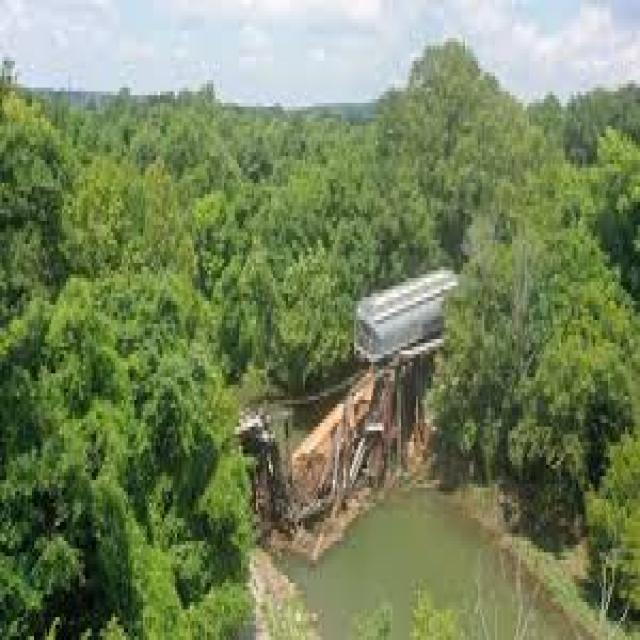bridge collapse: (81, 167, 640, 640)
